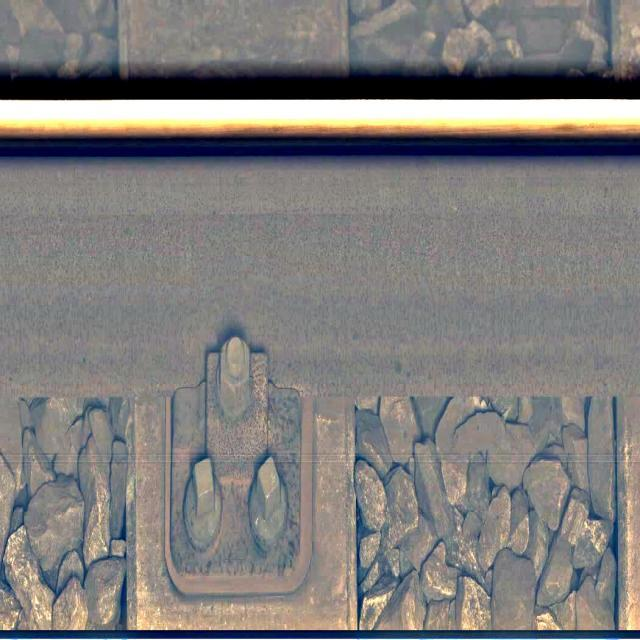Good Fasteners: (165, 337, 314, 597)
